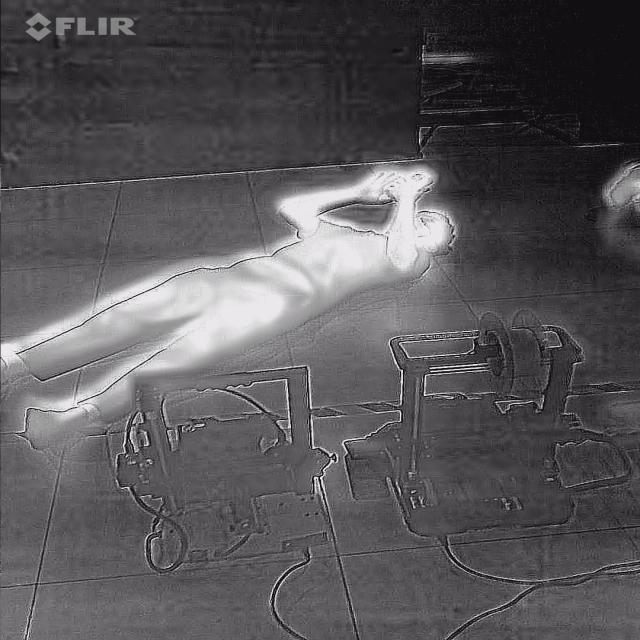Victim: (0, 160, 470, 452)
